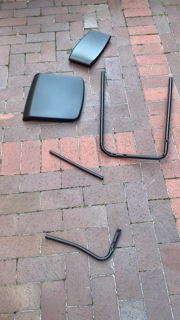Back: (69, 29, 113, 71)
L pipe: (43, 227, 124, 264)
Seat: (22, 73, 88, 125)
U pipe: (99, 68, 174, 162)
i pipe: (49, 150, 105, 184)
